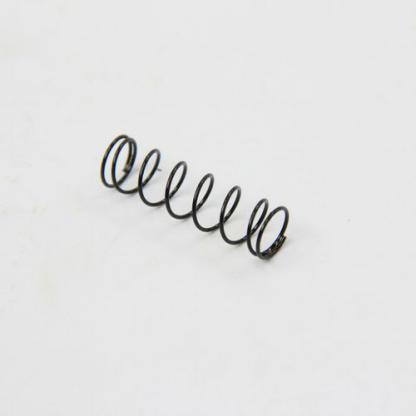FOD: (96, 127, 293, 262)
